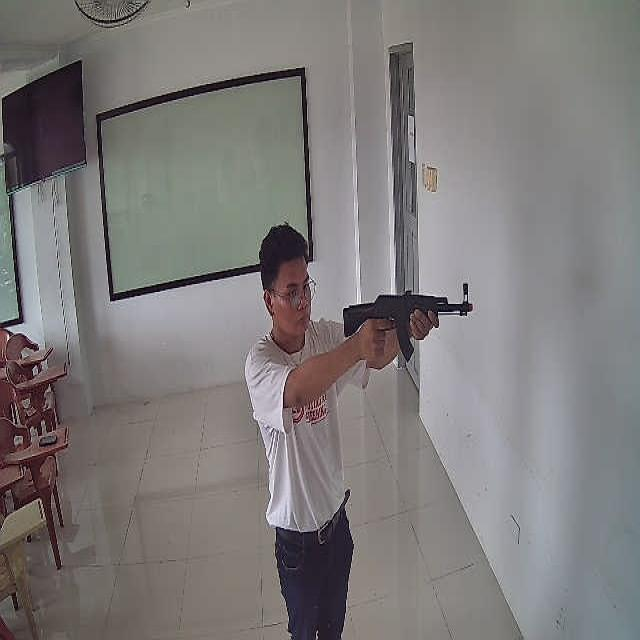rifle: (343, 282, 473, 362)
